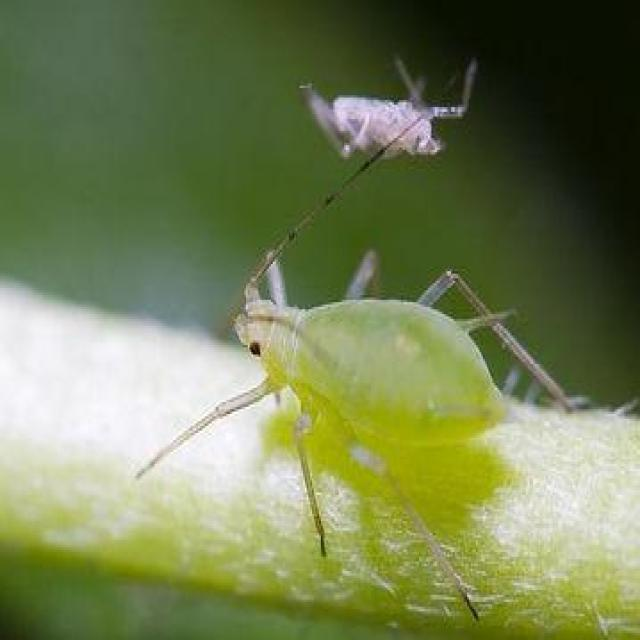Aphids: (160, 187, 586, 610), (261, 35, 536, 185)
